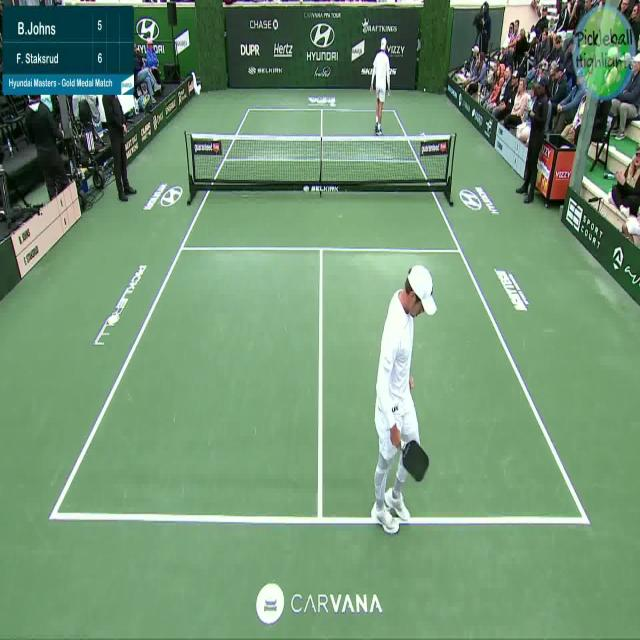ball: (422, 84, 427, 94)
